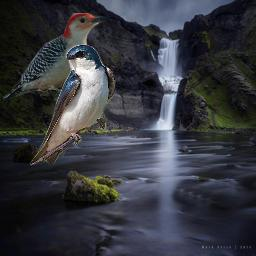Swallow: (30, 43, 116, 166)
Woodpecker: (3, 13, 112, 101)
